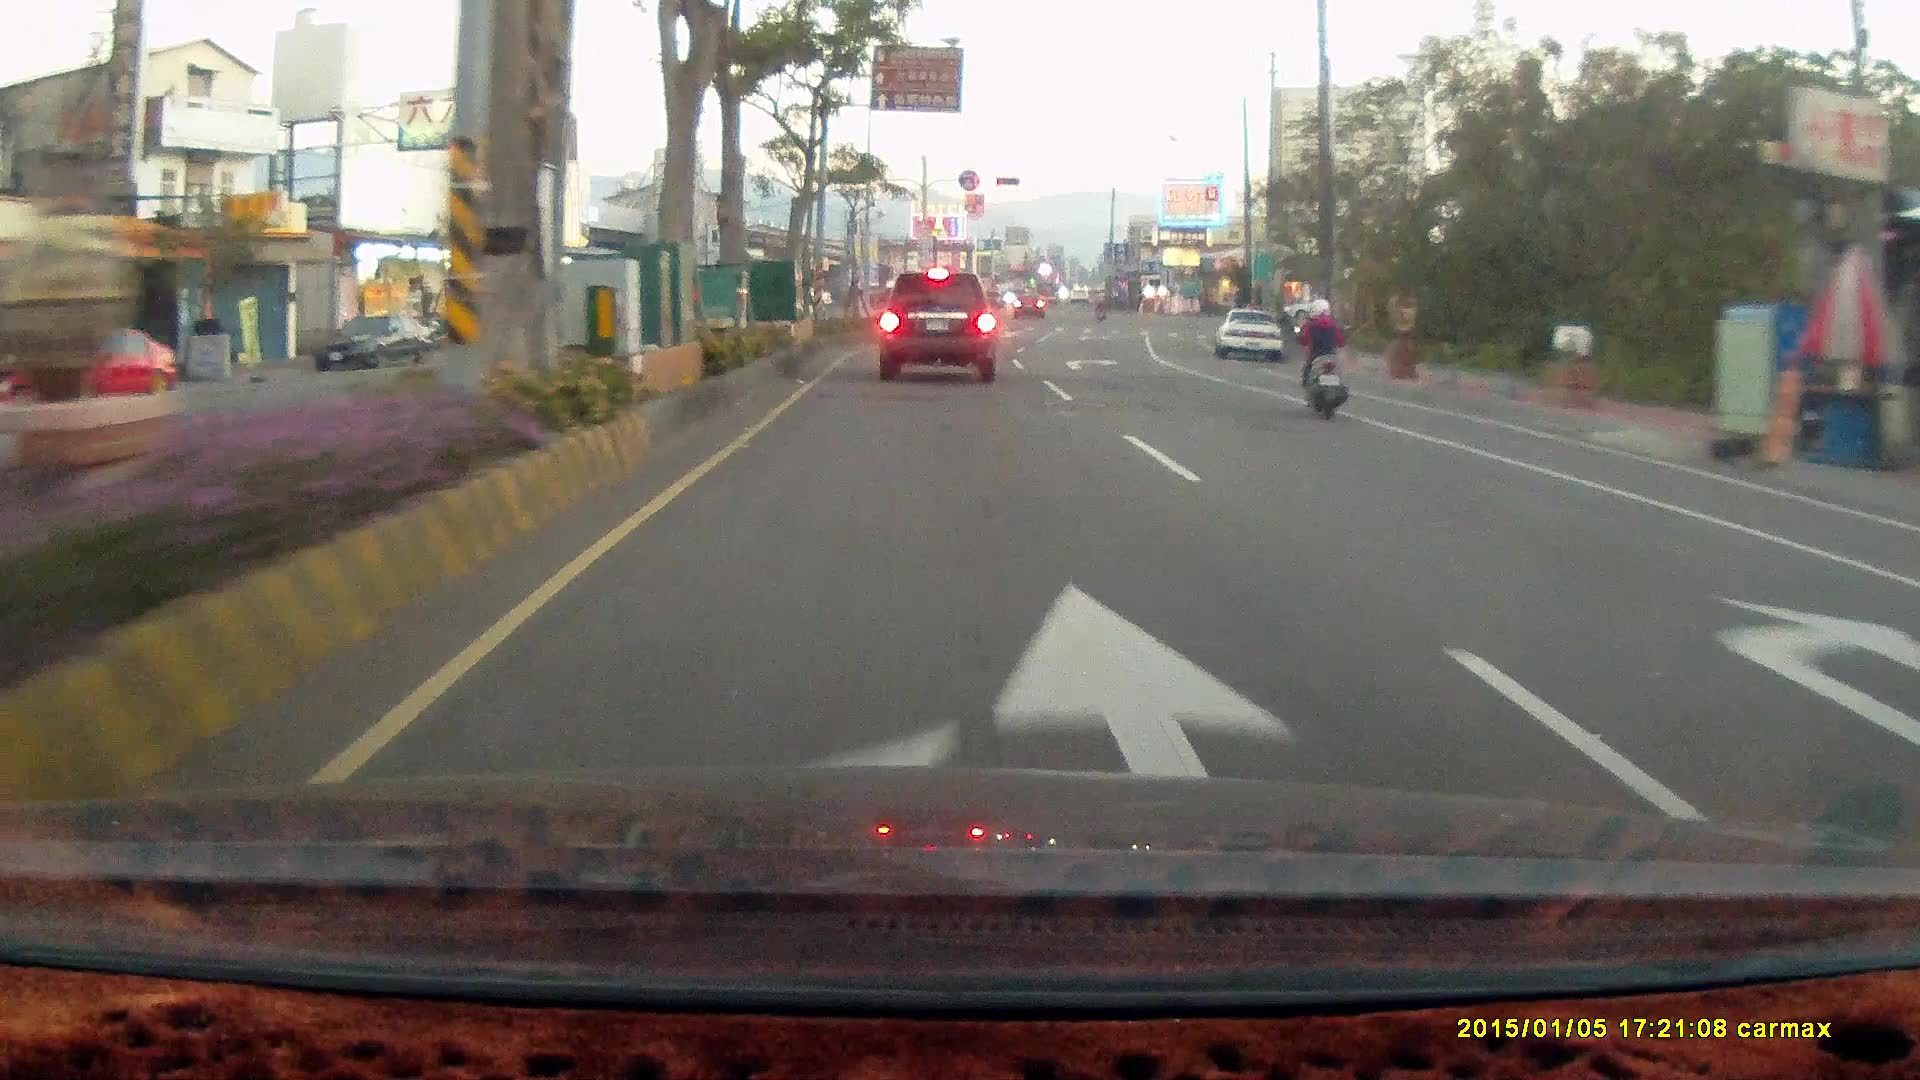rider: (1291, 295, 1349, 421)
vehicle: (5, 332, 173, 418), (878, 267, 996, 383), (1896, 493, 1920, 836), (312, 311, 424, 372), (1883, 528, 1920, 690), (1216, 309, 1287, 363), (1213, 307, 1282, 363)
